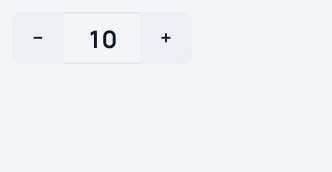
Stepper, to the letter of §6.11 (AC-291) › snaps a number outside the limits back, and says so
The image size is (332, 172).
Replace the text in the number field named "Kapacita" with "240" at (102, 38), box [70, 12, 134, 64]
Then press Enter
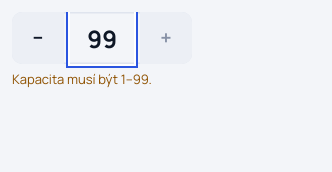
Expected: the number field named "Kapacita" holds "99", [70, 12, 134, 64]
Expected: the message reads "Kapacita musí být 1–99.", [12, 70, 152, 88]
